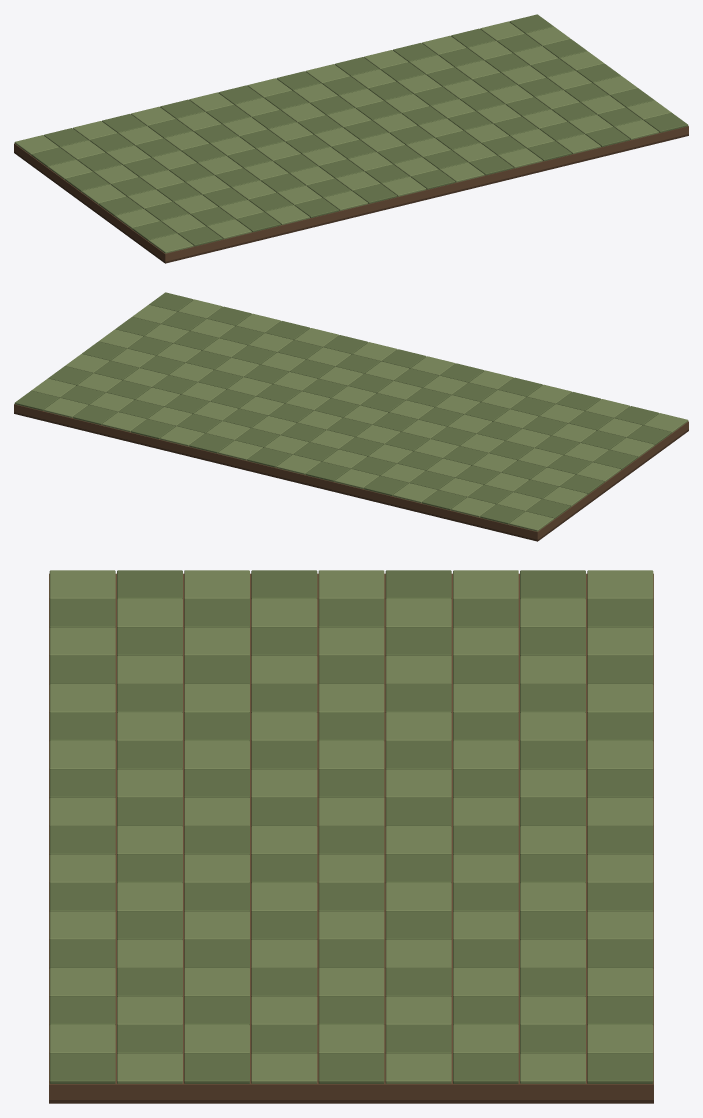
File: Camp Ground.fbx
3 renders of one model, top to bottom at view 1: azimuth 30°, elevation 25°; view 2: azimuth 150°, elevation 25°; view 3: azimuth 270°, elevation 25°, orthographic. The views are drawn at different scales.
Parts seen in each view (by area): view 1: Soil, SoilDark, G0_0, G9_0, G13_0, G3_0, G10_0, G12_0, G16_0, G2_0, G5_0, G6_0 (+152 smaller); view 2: Soil, SoilDark, G0_8, G9_8, G13_8, G3_8, G10_8, G12_8, G16_8, G2_8, G5_8, G6_8 (+152 smaller); view 3: Soil, SoilDark, G17_0, G17_3, G17_5, G17_8, G17_4, G17_1, G17_2, G17_6, G17_7, G1_0 (+152 smaller).
Part boxes in pixels (<box>): Soil: <box>14,126,688,261</box>; SoilDark: <box>14,134,688,263</box>; G0_0: <box>149,233,193,253</box>; G9_0: <box>411,169,455,189</box>; G13_0: <box>527,141,571,161</box>; G3_0: <box>236,212,280,232</box>; G10_0: <box>440,162,484,182</box>; G12_0: <box>498,148,542,168</box>; G16_0: <box>614,120,659,139</box>; G2_0: <box>207,219,251,239</box>; G5_0: <box>294,198,339,218</box>; G6_0: <box>323,191,368,210</box>; Soil: <box>14,404,688,539</box>; SoilDark: <box>14,412,688,541</box>; G0_8: <box>509,511,553,531</box>; G9_8: <box>247,447,291,467</box>; G13_8: <box>131,419,175,439</box>; G3_8: <box>422,490,466,510</box>; G10_8: <box>218,440,262,460</box>; G12_8: <box>160,426,204,446</box>; G16_8: <box>43,398,88,417</box>; G2_8: <box>451,497,495,517</box>; G5_8: <box>363,476,408,496</box>; G6_8: <box>334,469,379,488</box>; Soil: <box>49,573,653,1099</box>; SoilDark: <box>49,1100,653,1103</box>; G17_0: <box>49,1053,115,1083</box>; G17_3: <box>251,1053,317,1083</box>; G17_5: <box>385,1053,451,1083</box>; G17_8: <box>587,1053,653,1083</box>; G17_4: <box>318,1053,384,1083</box>; G17_1: <box>117,1053,182,1083</box>; G17_2: <box>184,1053,249,1083</box>; G17_6: <box>453,1053,518,1083</box>; G17_7: <box>520,1053,585,1083</box>; G1_0: <box>49,598,115,627</box>.
Bounding box in the file's own units: 18 × 0.37 × 9.
